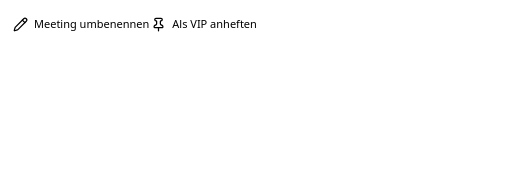
Scenario: keeps VIP actions out of the rename form and cancels without changing metadata
The width and height of the screenshot is (530, 172).
Click the button "Meeting umbenennen".
click(81, 24)  # box x1=12 y1=12 x2=150 y2=36
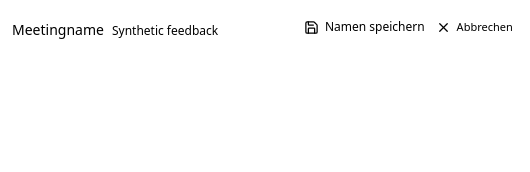
Expected: the button "Als VIP anheften" is gone
Replace the text in the field labelled "Meetingname" with "Unconfirmed title" at (199, 30), box x1=104 y1=16 x2=294 y2=46
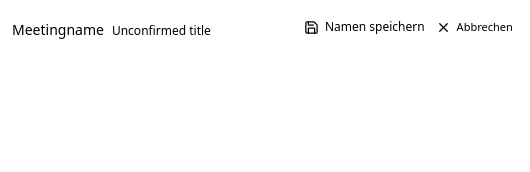
Click the button "Abbrechen".
click(474, 27)  # box x1=435 y1=15 x2=514 y2=39
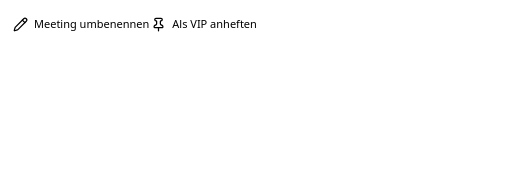
Expected: the button "Als VIP anheften" is shown, x1=150 y1=12 x2=258 y2=36
